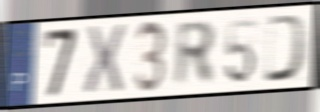3: (133, 17, 169, 96)
5: (224, 16, 260, 86)
7: (42, 27, 78, 99)
D: (262, 12, 309, 85)
R: (173, 19, 218, 90)
X: (82, 22, 128, 98)
